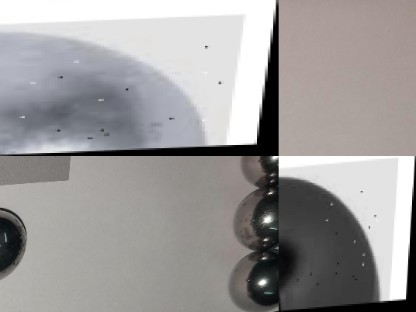ironball: (0, 16, 245, 155), (278, 159, 398, 311), (231, 248, 279, 311), (234, 191, 279, 249), (0, 155, 76, 185), (1, 206, 26, 279), (237, 157, 278, 189)
